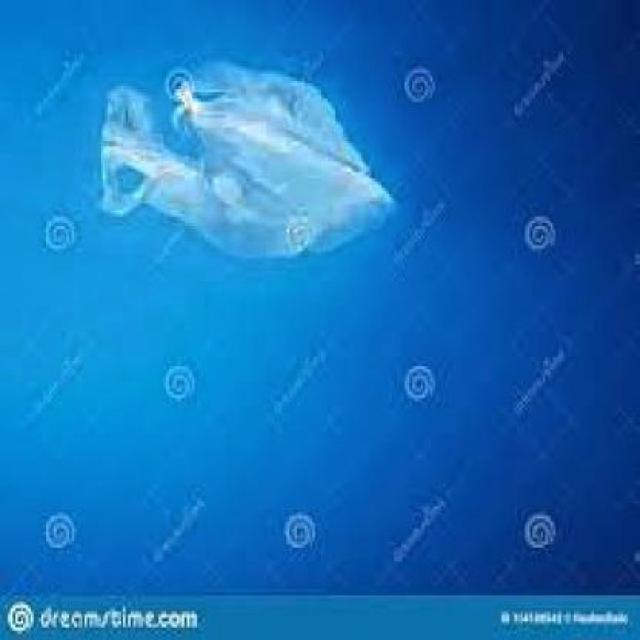pbag: (97, 57, 400, 268)
